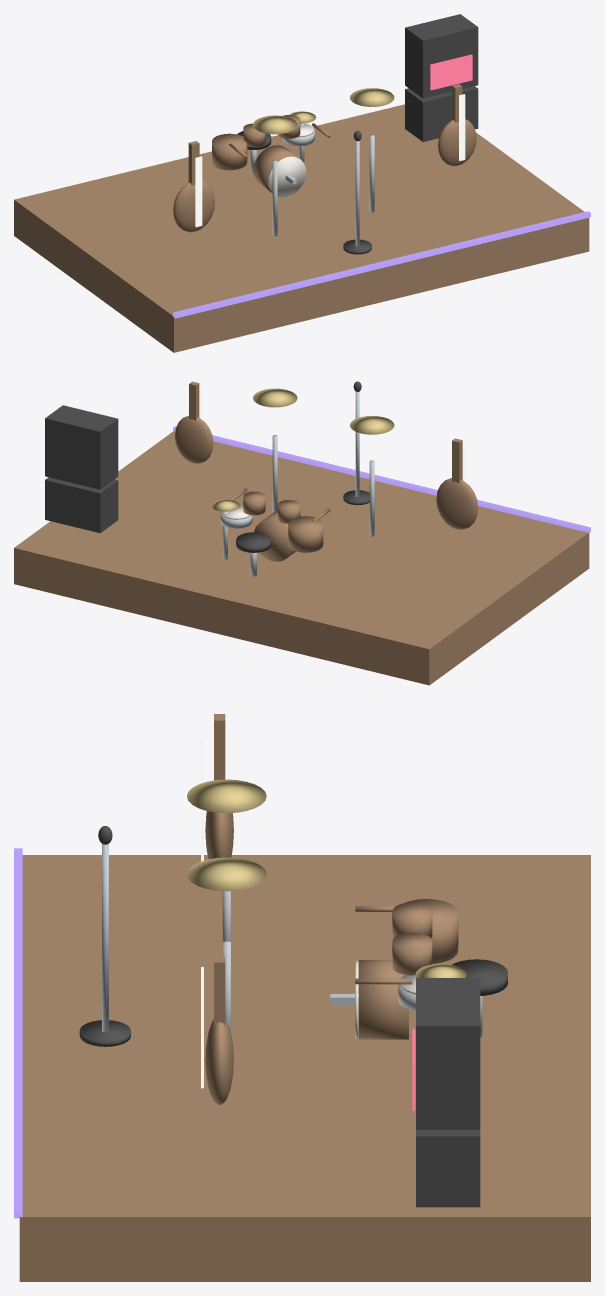
File: band_instruments.glb
3 views of the same model, one above another, from view 1: azimuth 30°, elevation 25°; view 2: azimuth 150°, elevation 25°; view 3: azimuth 270°, elevation 25° (orthographic). The views are drawn at different scales.
Parts seen in each view (by area): view 1: riser_body, riser_trim, amp_cabinet_1, amp_head, amp_cabinet_2, bass_body, guitar_body, amp_grille, floor_tom, kick_head, kick, cymbal_ride (+6 smaller); view 2: riser_body, amp_cabinet_1, amp_cabinet_2, amp_head, riser_trim, bass_body, guitar_body, floor_tom, kick, cymbal_crash, cymbal_ride, throne_seat (+7 smaller); view 3: riser_body, amp_head, amp_cabinet_1, amp_cabinet_2, riser_trim, kick, cymbal_crash, cymbal_ride, guitar_body, floor_tom, rack_tom_1, mic_post (+6 smaller).
Boxes of the visible parts, x1,y1,x2,y2 form: riser_body: (14, 104, 589, 352); riser_trim: (173, 211, 590, 318); amp_cabinet_1: (405, 86, 478, 141); amp_head: (405, 14, 478, 58); amp_cabinet_2: (405, 45, 478, 98); bass_body: (173, 181, 214, 232); guitar_body: (438, 119, 476, 166); amp_grille: (430, 54, 472, 90); floor_tom: (212, 133, 247, 170); kick_head: (268, 156, 306, 196); kick: (253, 145, 303, 196); cymbal_ride: (253, 115, 297, 134); riser_body: (14, 431, 589, 685); amp_cabinet_1: (45, 477, 118, 533); amp_cabinet_2: (45, 436, 118, 489); amp_head: (45, 405, 118, 449); riser_trim: (173, 426, 590, 532); bass_body: (436, 478, 478, 529); guitar_body: (174, 415, 213, 463); floor_tom: (288, 516, 323, 552); kick: (254, 510, 295, 561); cymbal_crash: (253, 388, 297, 407); cymbal_ride: (349, 416, 394, 434); throne_seat: (236, 532, 271, 552); riser_body: (19, 855, 590, 1281); amp_head: (416, 978, 480, 1058); amp_cabinet_1: (416, 1129, 480, 1207); amp_cabinet_2: (416, 1058, 480, 1129); riser_trim: (14, 848, 22, 1218); kick: (359, 960, 408, 1039); cymbal_crash: (187, 857, 266, 891); cymbal_ride: (187, 779, 266, 813); guitar_body: (205, 1019, 233, 1105); floor_tom: (404, 899, 458, 963); rack_tom_1: (392, 932, 432, 975); mic_post: (102, 844, 108, 1032).
Bounding box in the file's own units: 6 × 2.12 × 4.04.
